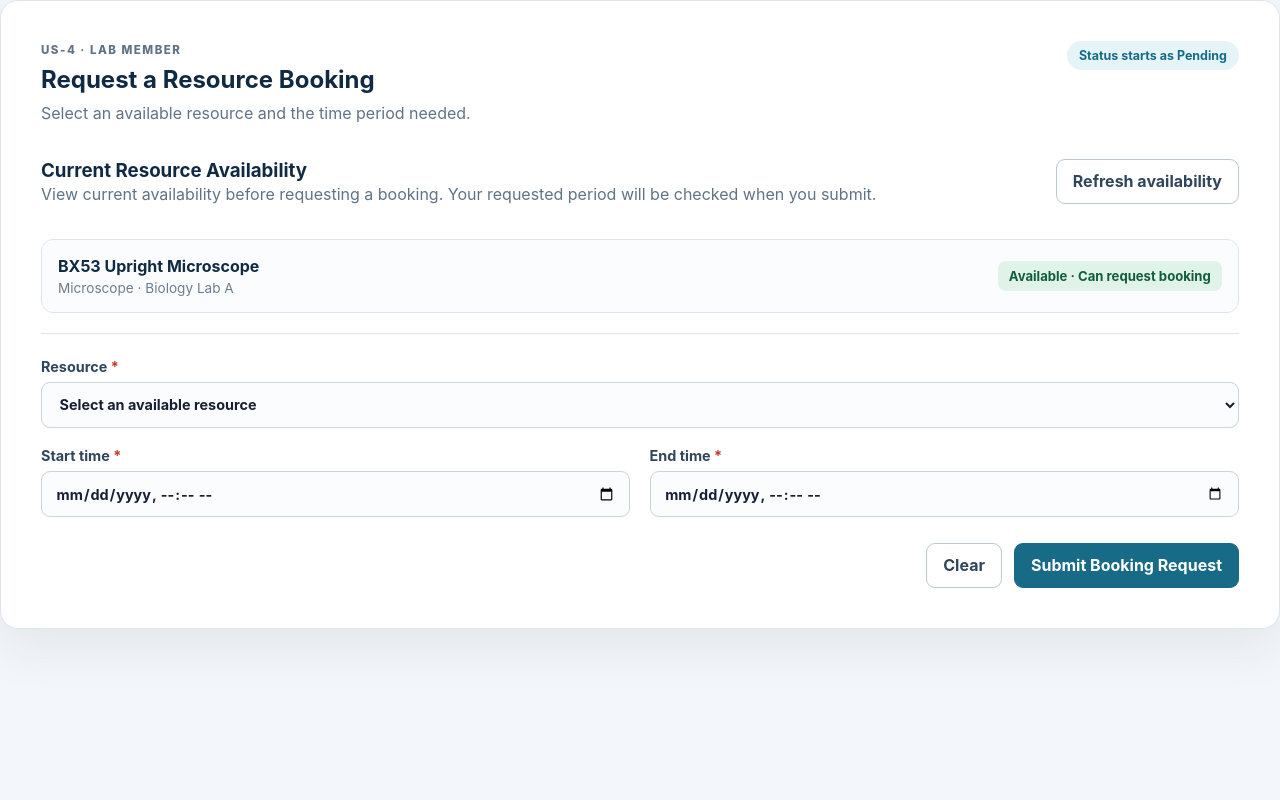
Test: BookingForm › refreshes both states, clears an unavailable selection, and preserves entered times
The image size is (1280, 800).
Select "BX53 Upright Microscope · Biology Lab A · Available · Can request booking" in the dropdown labelled "Resource *": coordinates (640, 405) [41,382,1239,428]
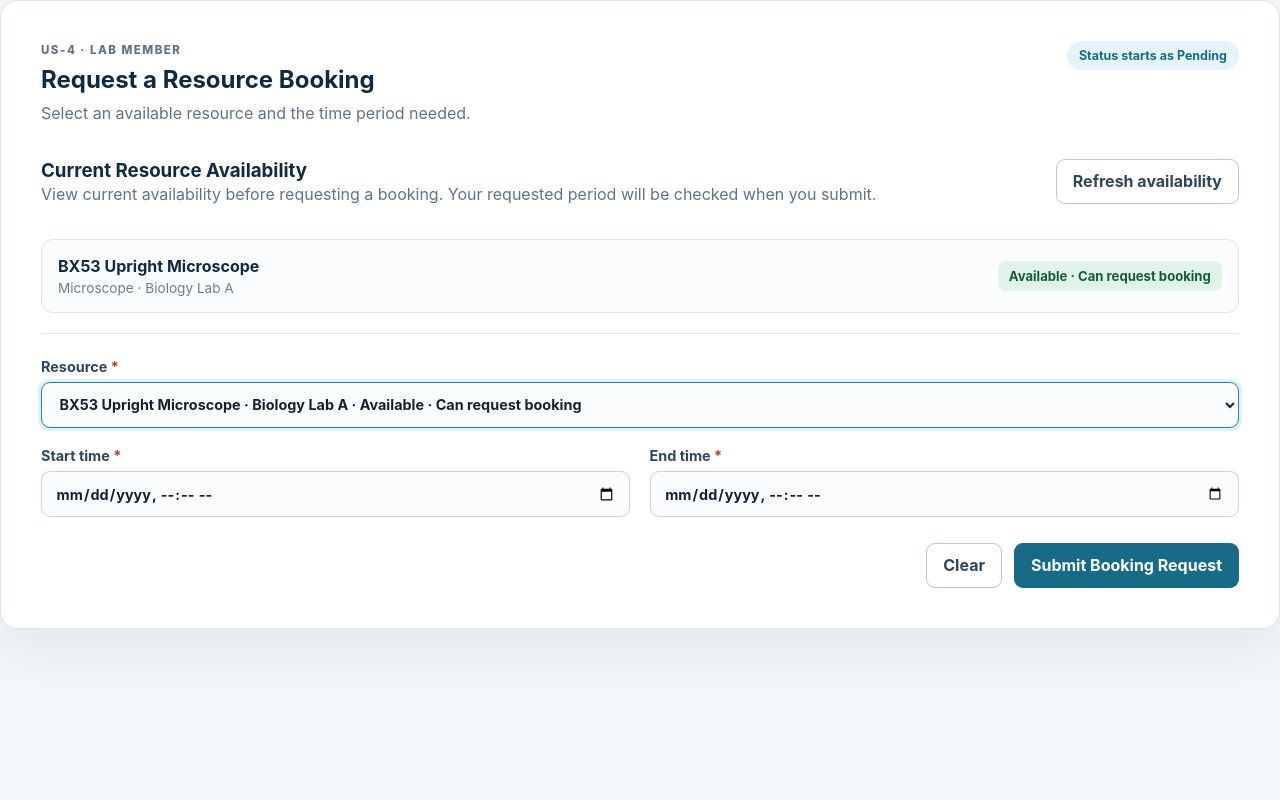
In the field labelled "Start time *": coordinates (336, 494) [41,471,630,517], type "2026-10-10T09:00"
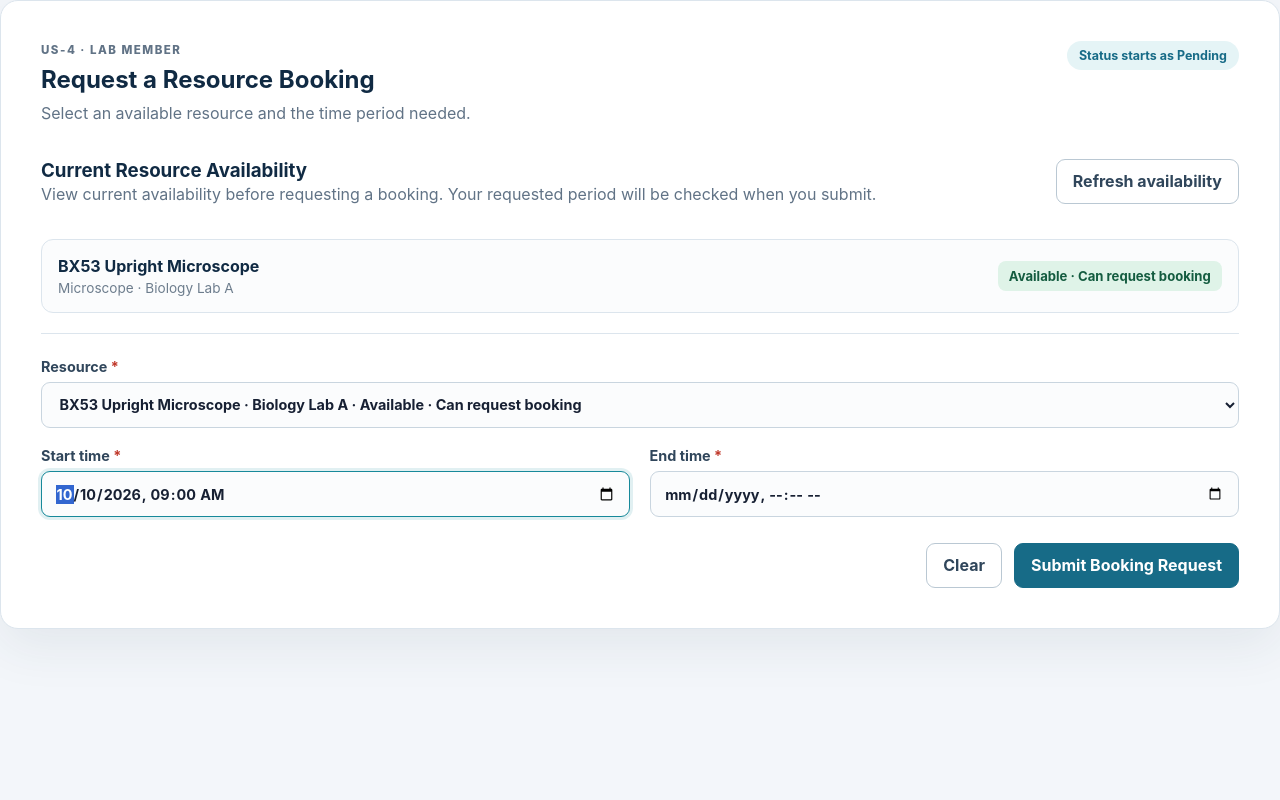
In the field labelled "End time *": coordinates (944, 494) [650,471,1239,517], type "2026-10-10T11:00"
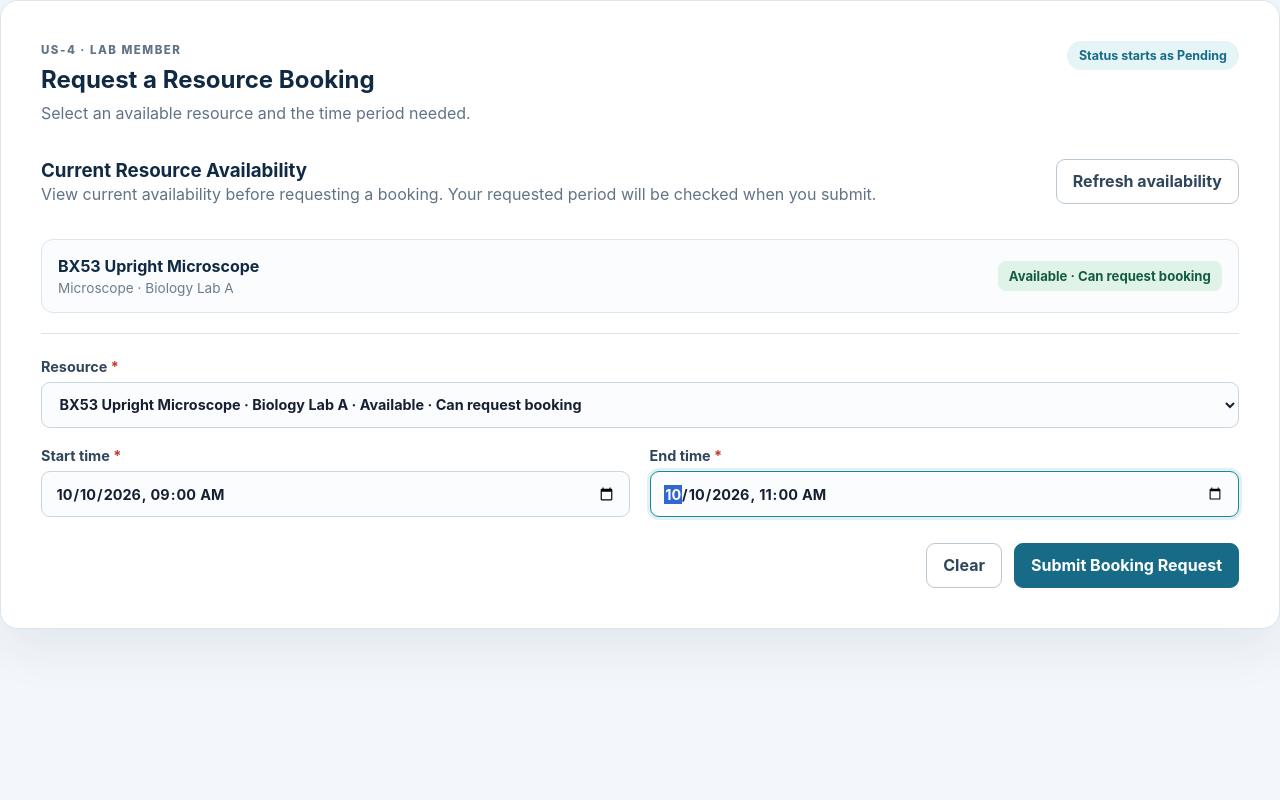
Click the button "Refresh availability": coordinates (1147, 181) [1056,159,1239,204]
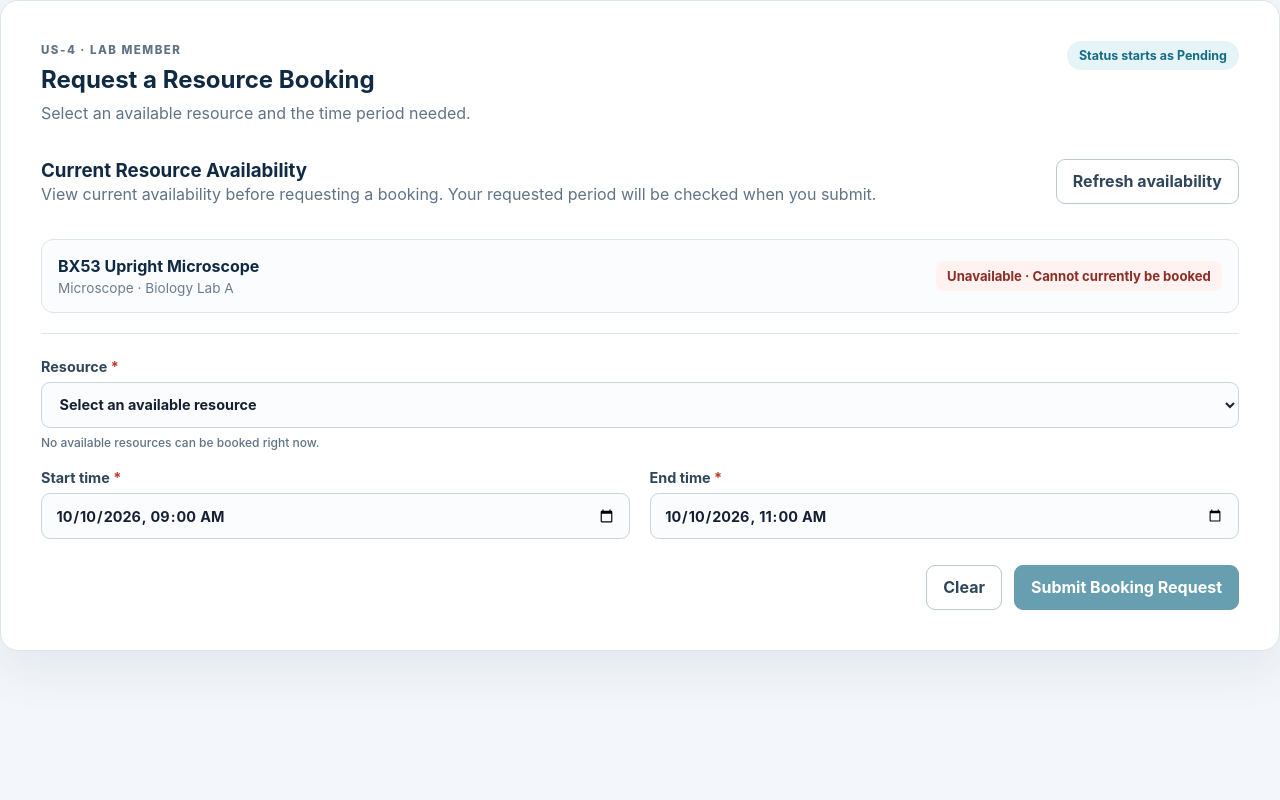
expect the button "Submit Booking Request" is disabled: met, box [1014,565,1239,610]
Click the button "Refresh availability": coordinates (1147, 181) [1056,159,1239,204]
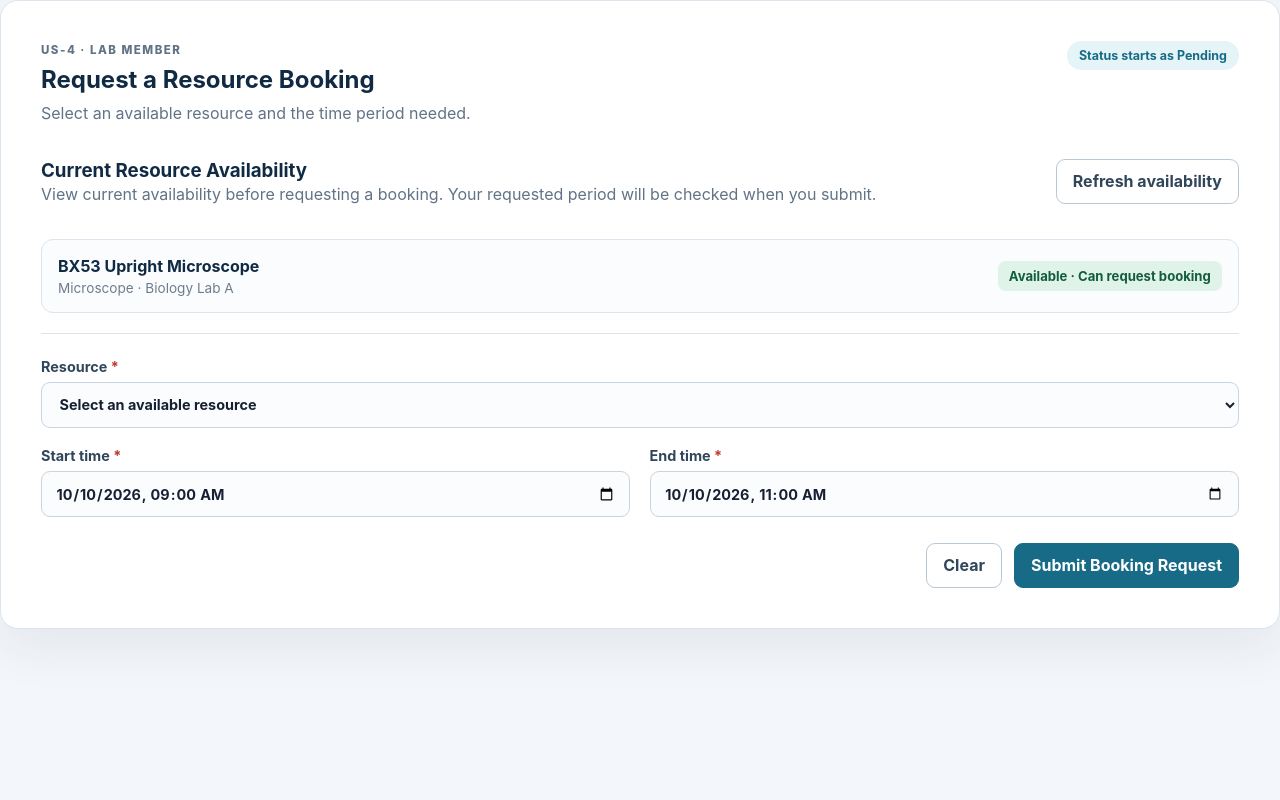
expect the button "Submit Booking Request" is enabled: met, box [1014,543,1239,588]
